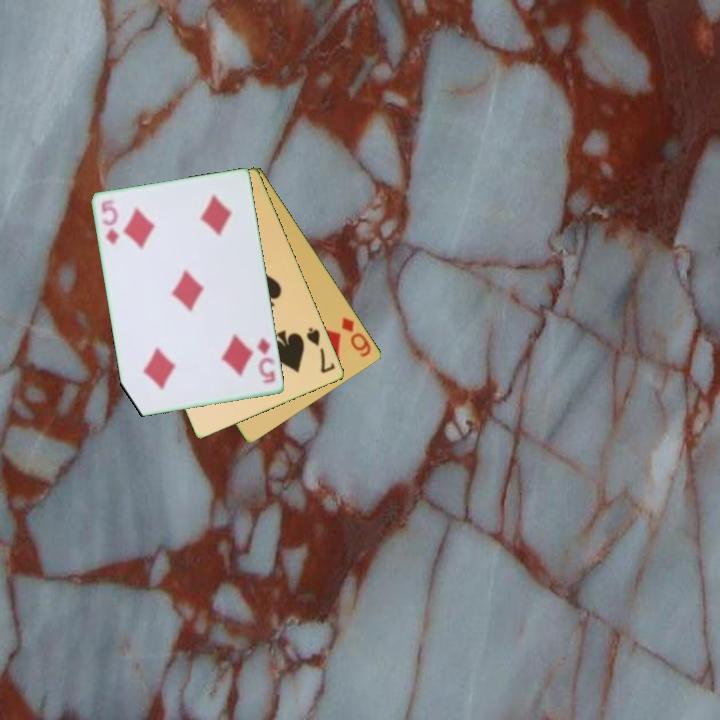5d: (253, 335, 278, 386), (98, 197, 122, 248)
6d: (338, 313, 374, 360)
7s: (303, 324, 338, 376)
